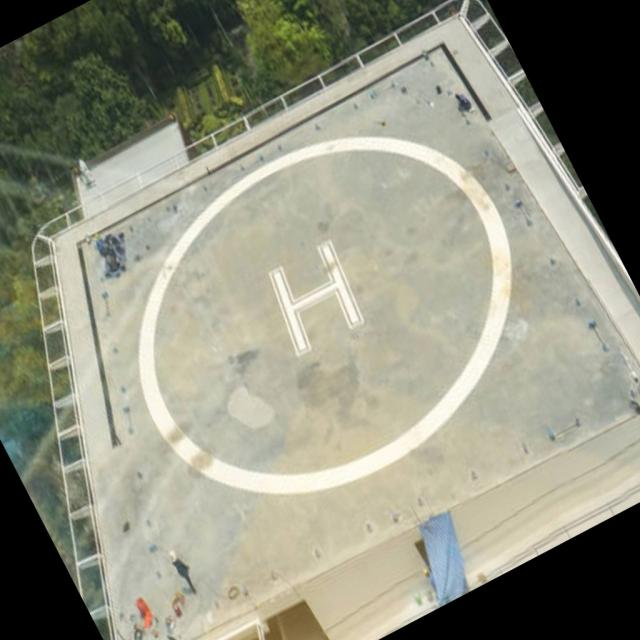helipad: (132, 130, 516, 502)
